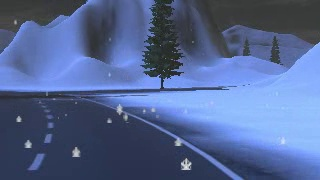Lane: (0, 87, 240, 179)
